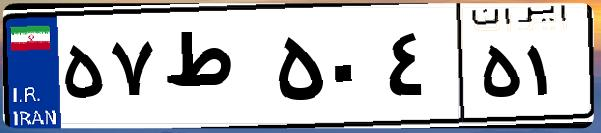0: (330, 28, 385, 110)
1: (525, 38, 570, 115)
4: (385, 28, 445, 110)
5: (270, 28, 330, 110), (57, 26, 110, 100), (475, 38, 525, 113)
7: (110, 28, 158, 98)
ط: (158, 20, 270, 120)
